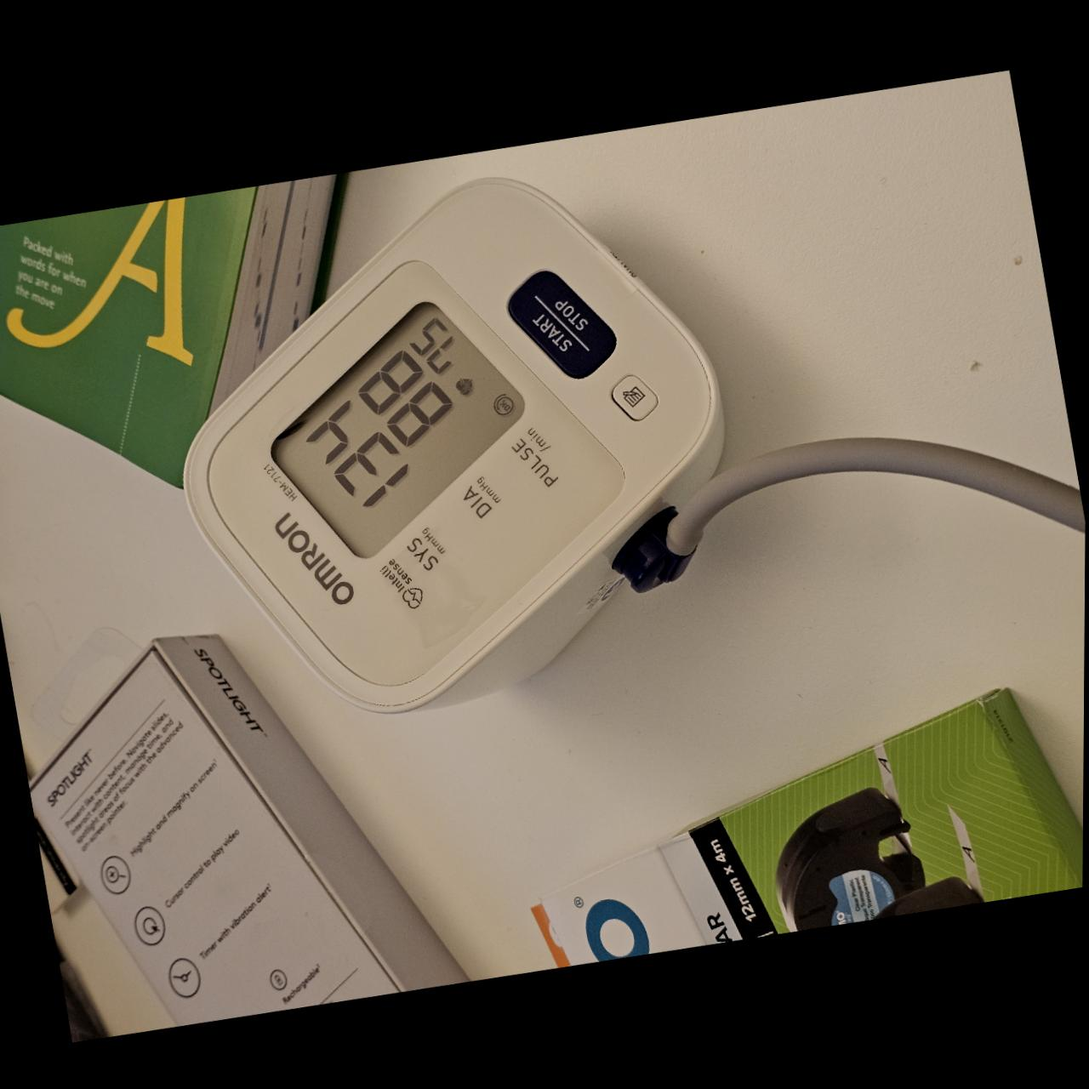blood pressure monitor: (134, 132, 773, 758)
